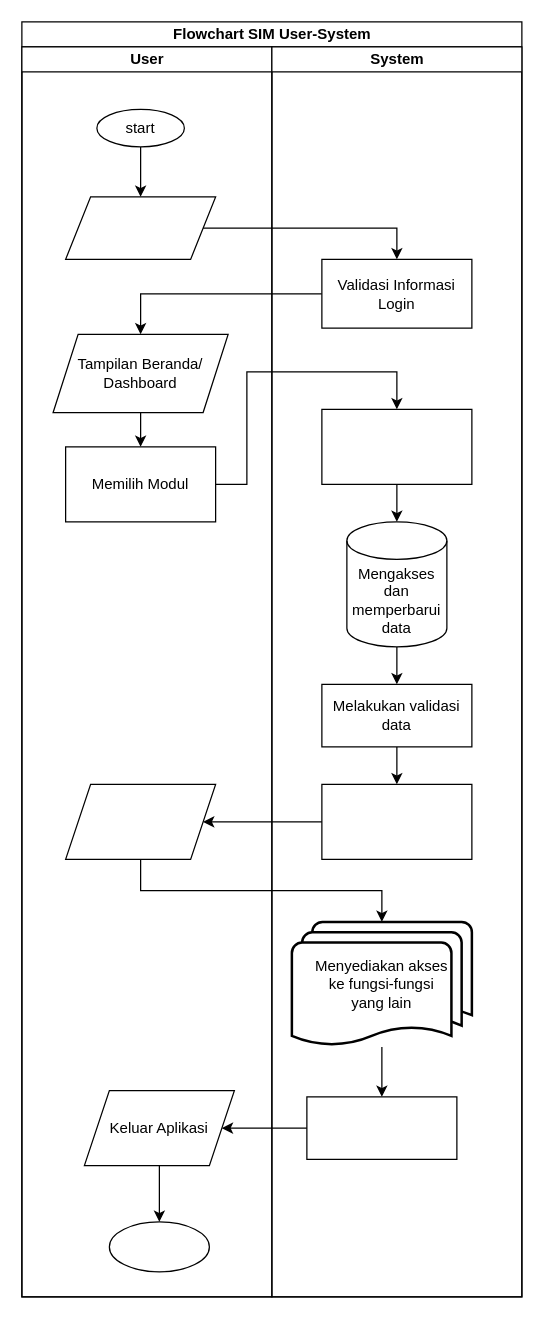
The diagram is 544 pixels wide and 1319 high, and some of its shapes have lost their labels. The centre of each missing label's shape, as x and y in pixels:
Akses Aplikasi (Login): the point at 140,227
end: the point at 158,1246
Logout: the point at 381,1127
Melihat Laporan: the point at 140,821
Mengarahkan pengguna ke modul yang dipilih: the point at 396,446
Menyimpan perubahan data: the point at 396,821
